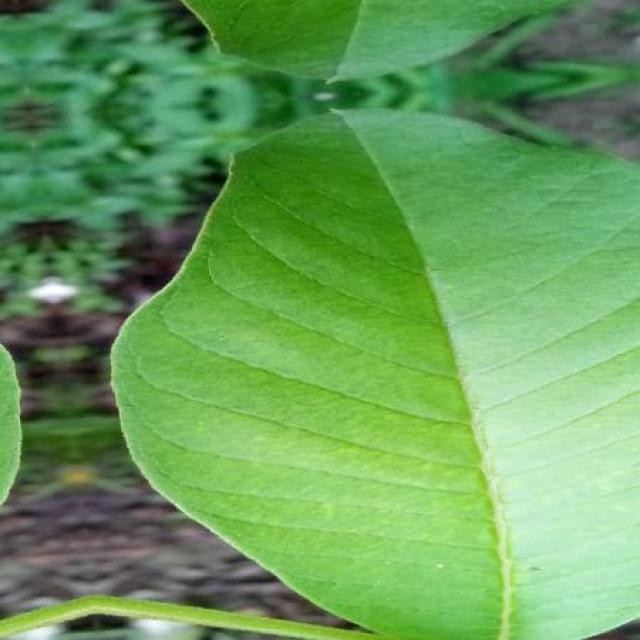Disease Free: (114, 111, 640, 640), (185, 1, 561, 81)
